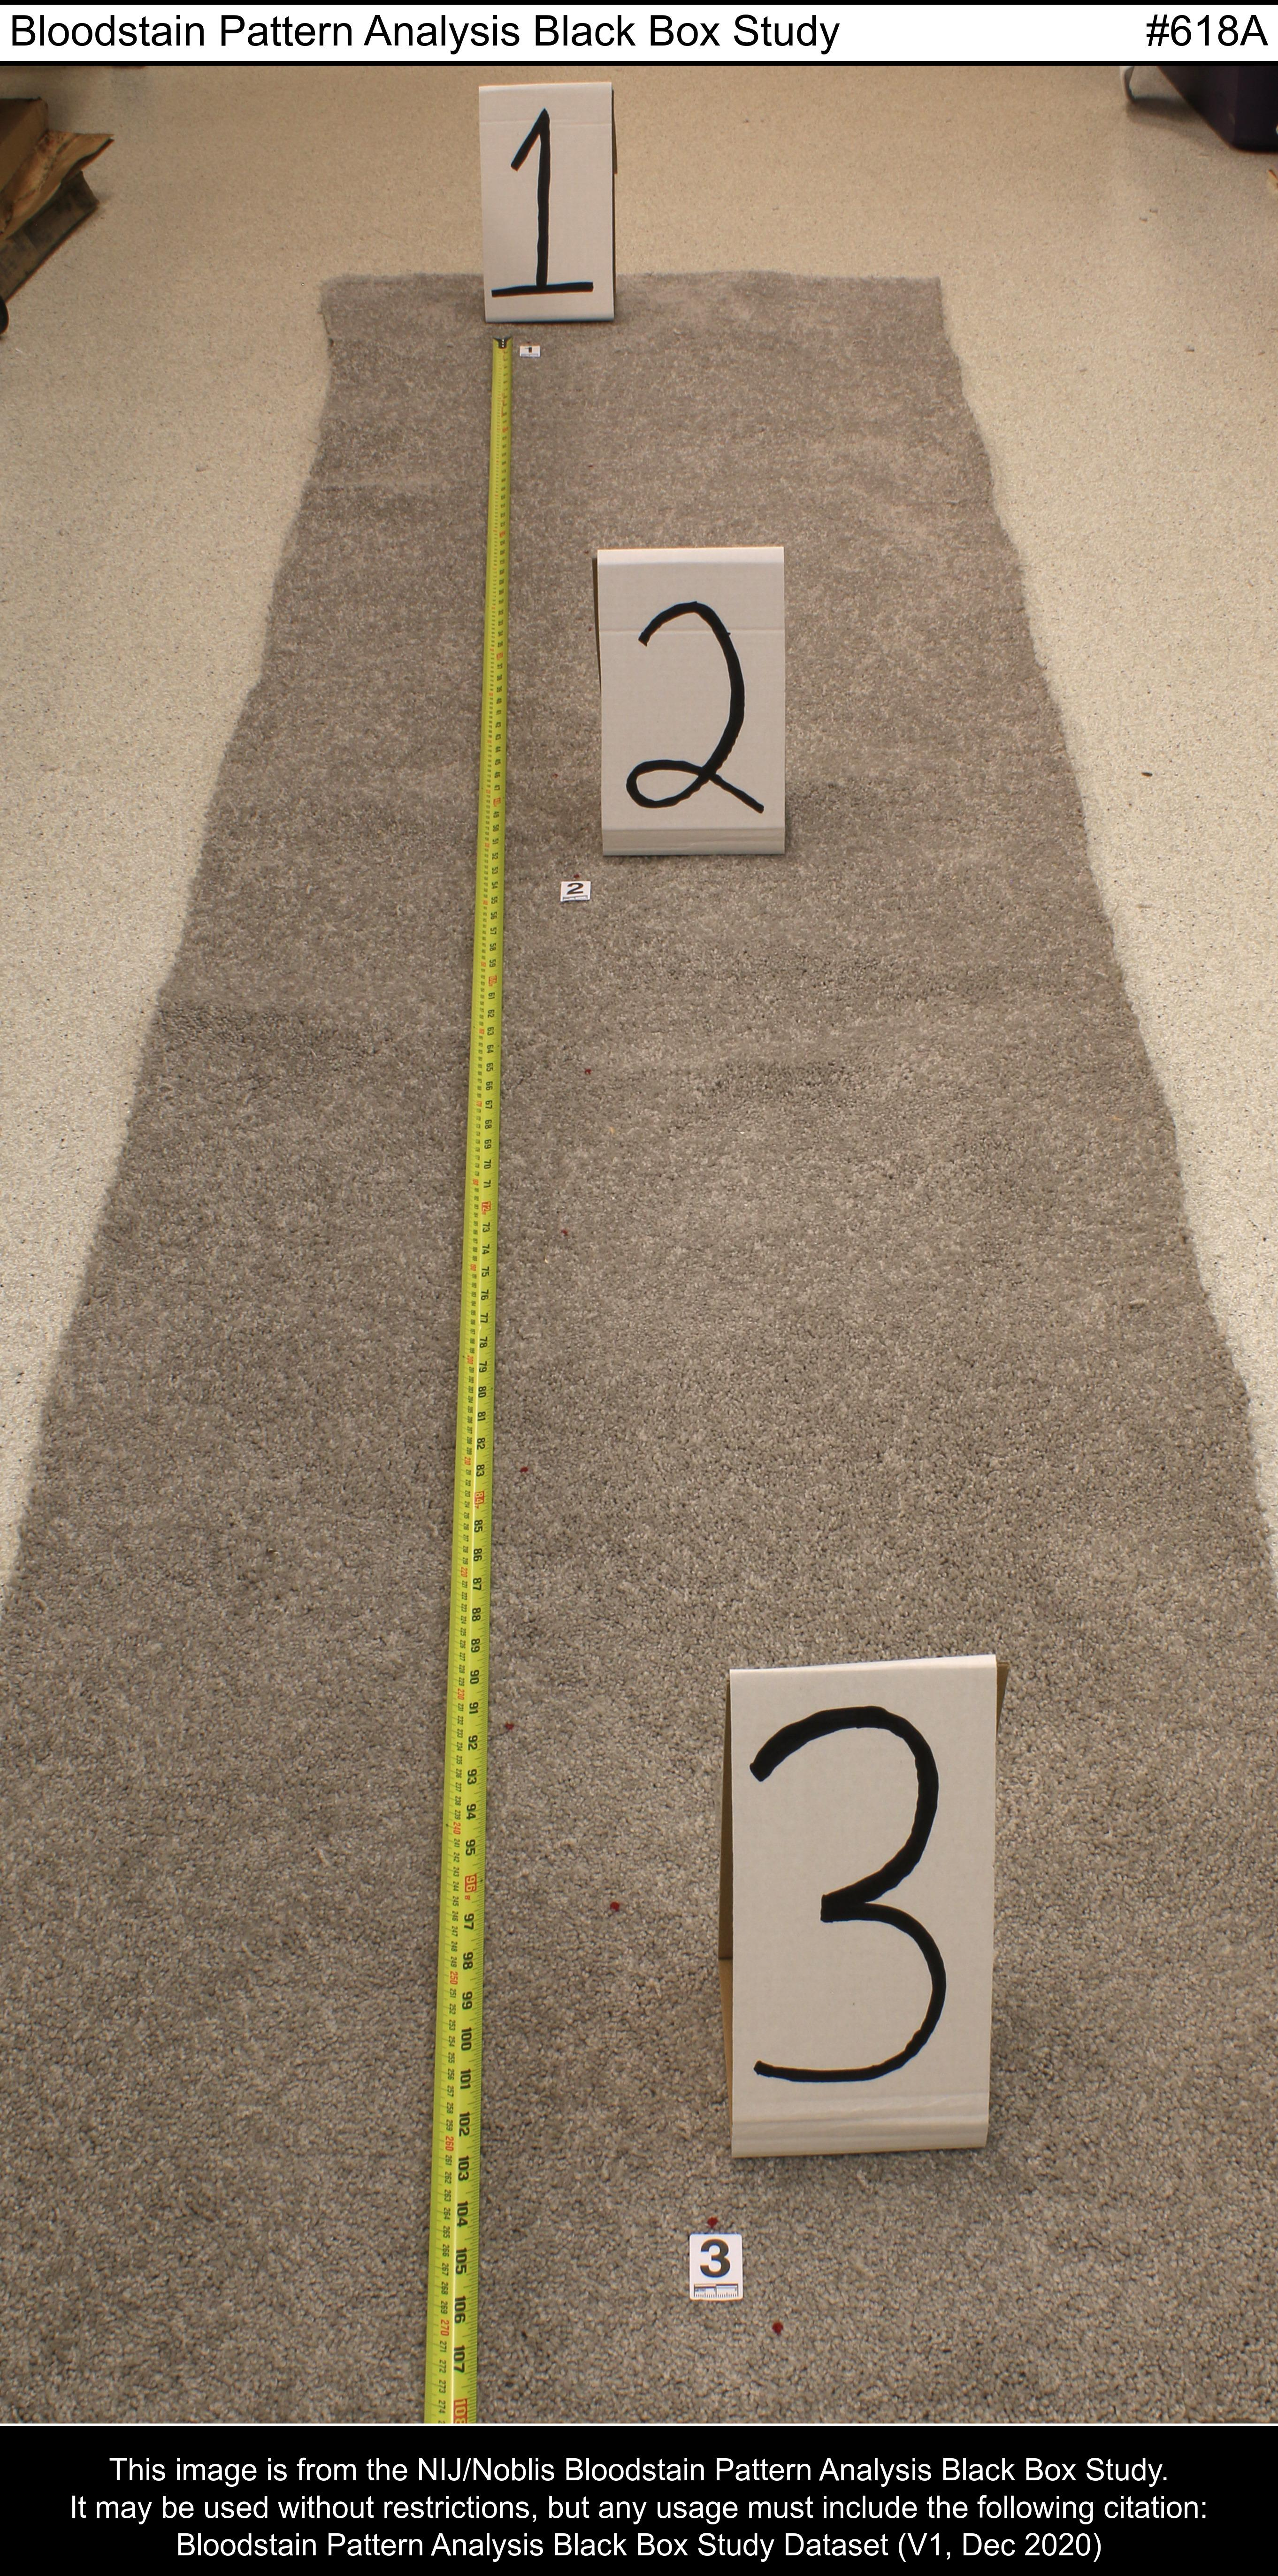Impact: (529, 1002, 920, 1285)
